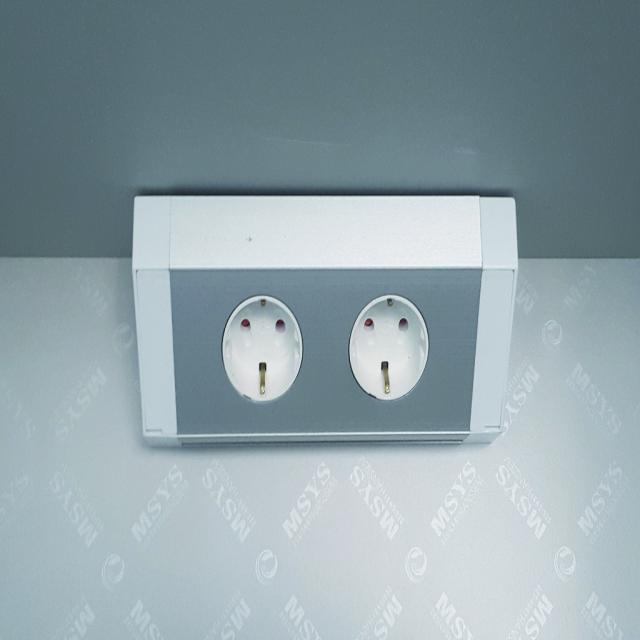typeb: (92, 151, 542, 538), (177, 226, 492, 508)
